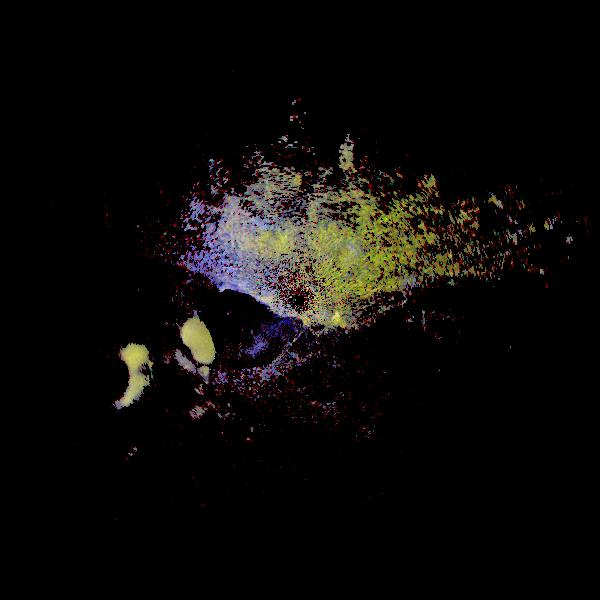roost: (61, 328, 154, 421), (127, 307, 220, 400), (332, 120, 404, 192)
